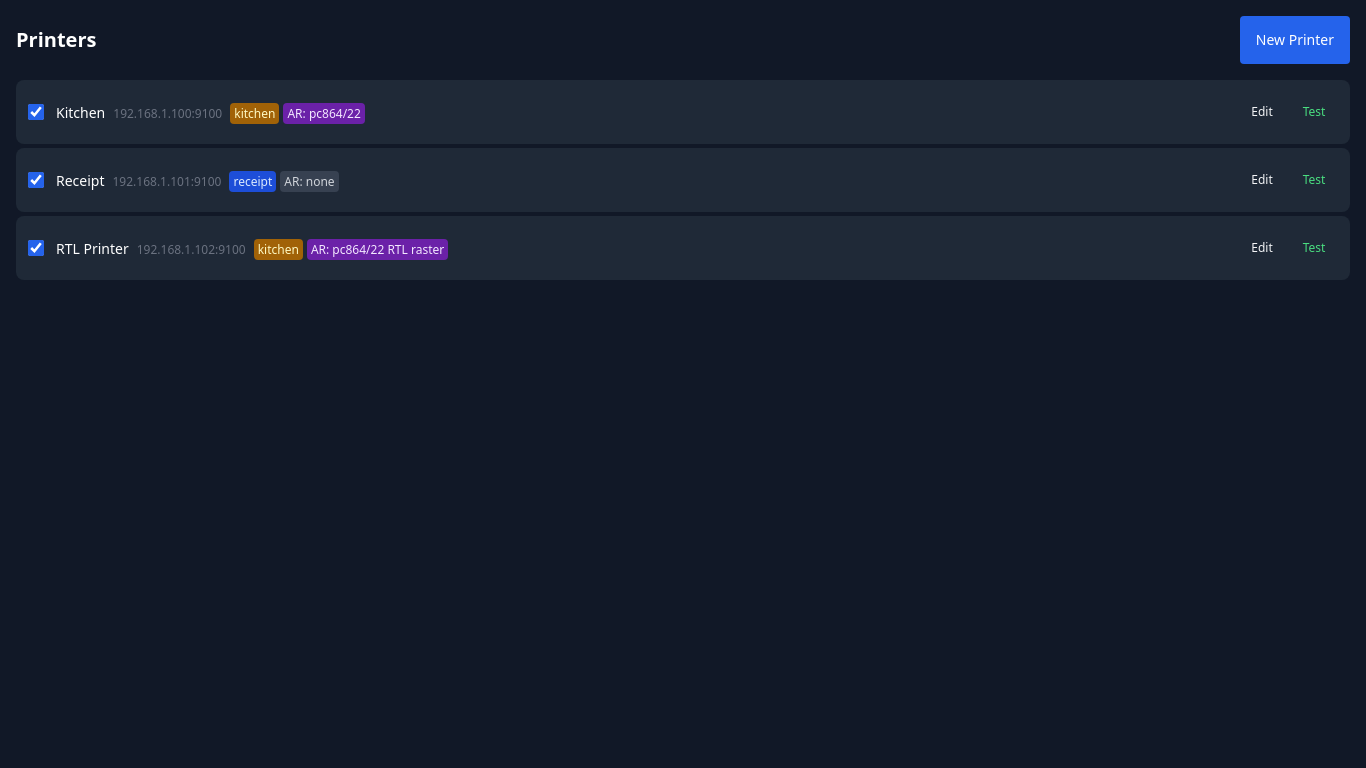
PrintersPage — config › edit loads existing config into form fields
Check: the text "AR: pc864/22" is shown, box [283,103,365,124]
Step 1. Click the text "Edit" in the row of "192.168.1.100:9100" → (1262, 112), box [1251,103,1273,120]
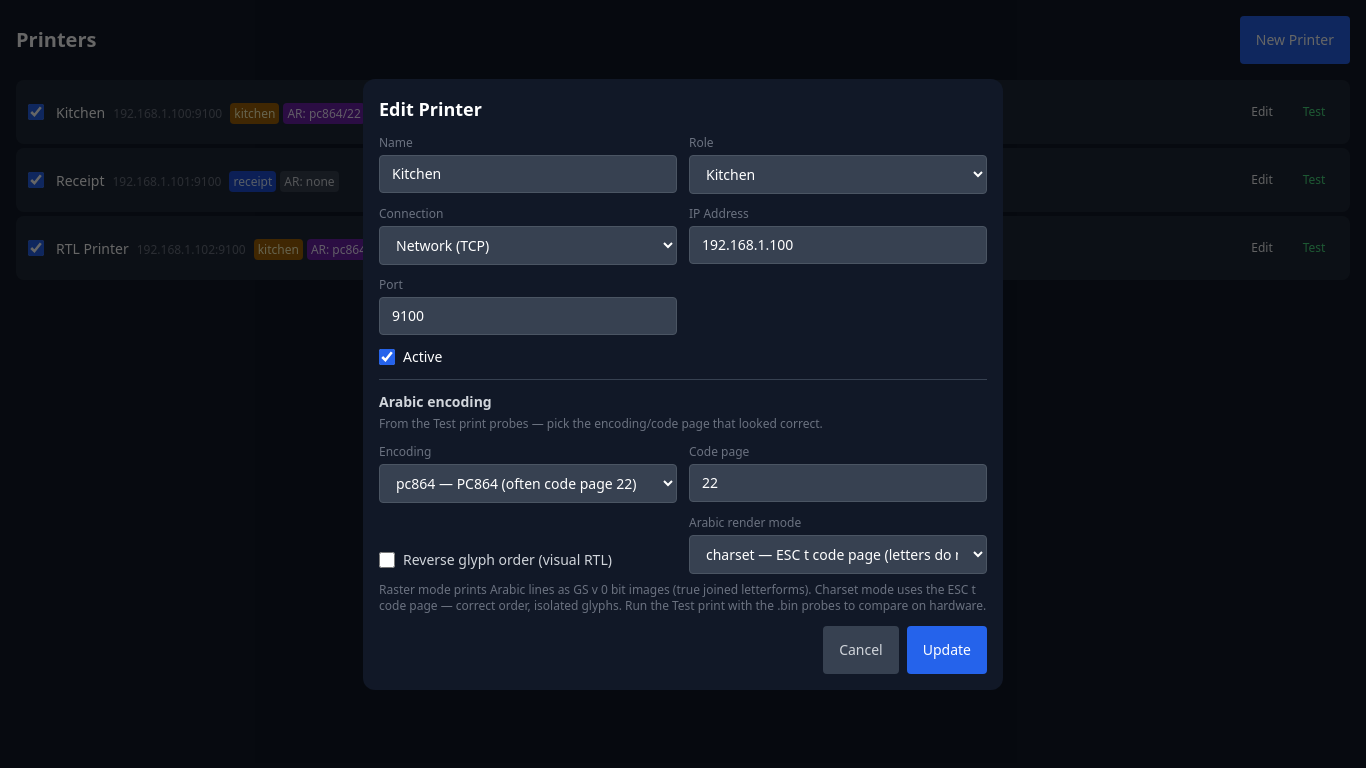
Check: the dropdown with test id "encoding-select" shows "pc864 — PC864 (often code page 22)", box [379,464,677,502]
Check: the number field showing "22" is shown, box [689,464,987,502]
Check: the heading "Edit Printer" is shown, box [379,96,482,120]
